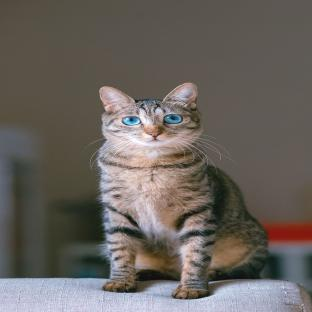Animal: (96, 83, 267, 299)
